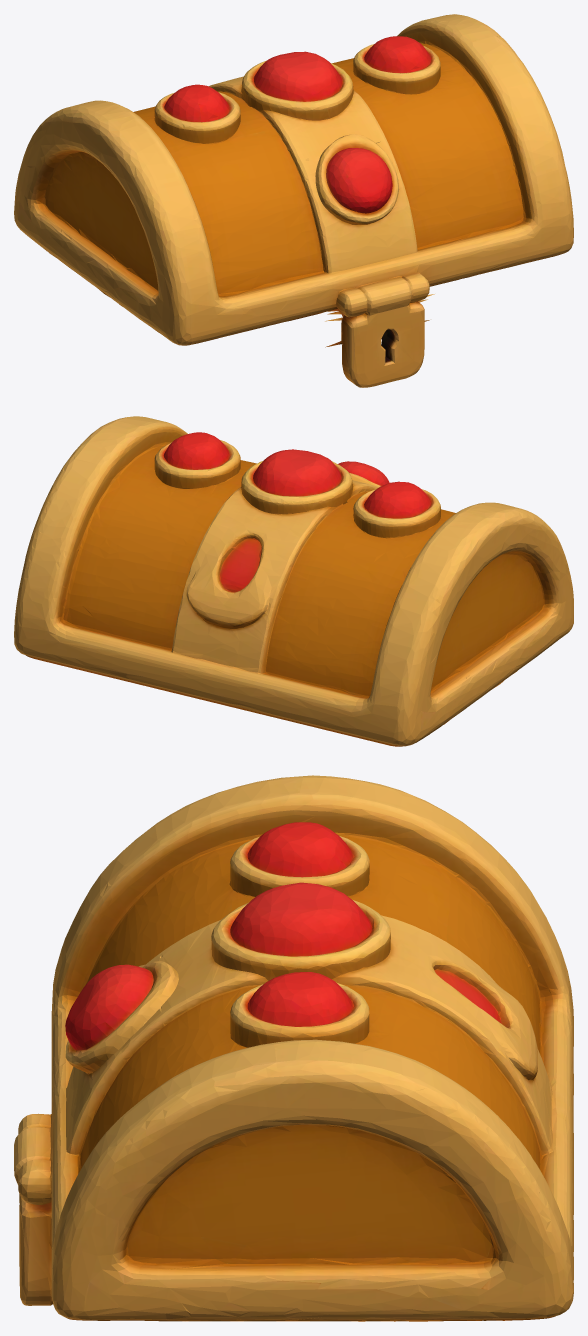
Rendered from lid.glb.
3 views of the same model, one above another, from view 1: azimuth 30°, elevation 25°; view 2: azimuth 150°, elevation 25°; view 3: azimuth 270°, elevation 25° (orthographic). The views are drawn at different scales.
Parts seen in each view (by area): view 1: source_surface_0; view 2: source_surface_0; view 3: source_surface_0.
Boxes of the visible parts, left/top/right/bottom form: source_surface_0: left=14, top=14, right=573, bottom=387; source_surface_0: left=14, top=416, right=573, bottom=746; source_surface_0: left=14, top=775, right=573, bottom=1321.
Bounding box in the file's own units: 0.12 × 0.0724 × 0.0938.
Materials: 1 (1 with a texture image).
